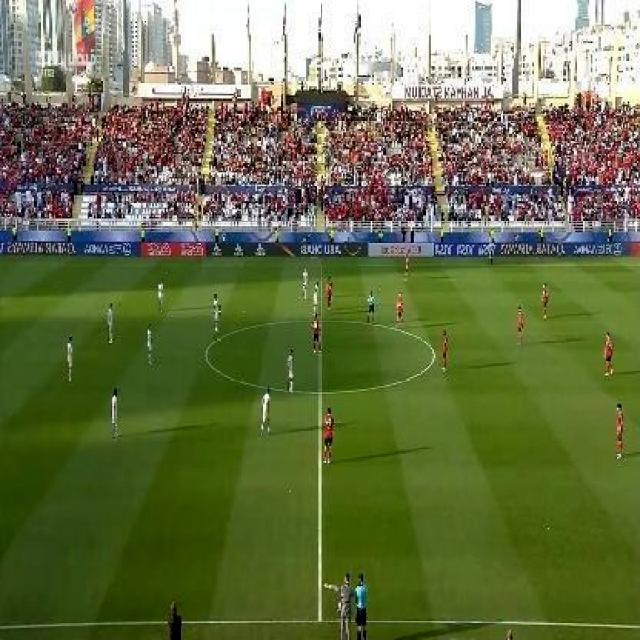halfcircle_bottom: (312, 379, 330, 403)
halfcircle_top: (312, 310, 330, 328)
midline_bottom_intersection: (310, 606, 332, 628)
midline_top_intersection: (315, 255, 328, 268)
